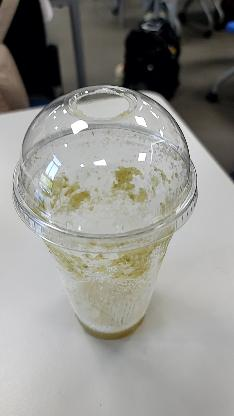Plastic Cup: (12, 84, 198, 342), (12, 84, 200, 250)
